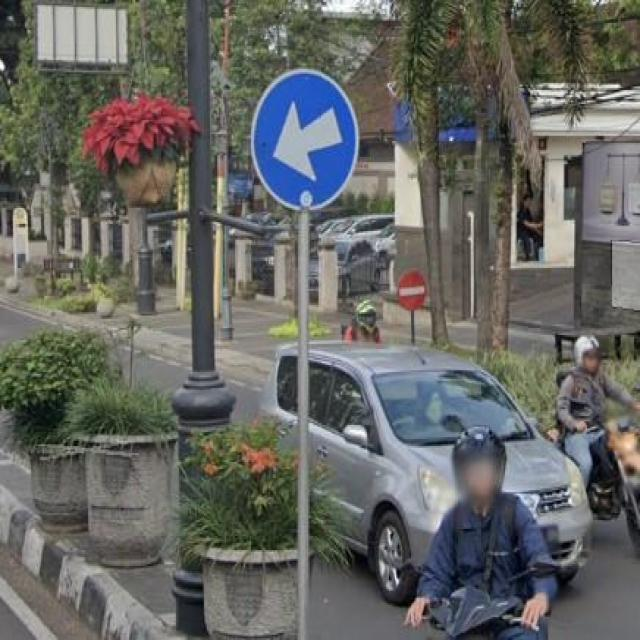traffic sign: (254, 69, 352, 206)
